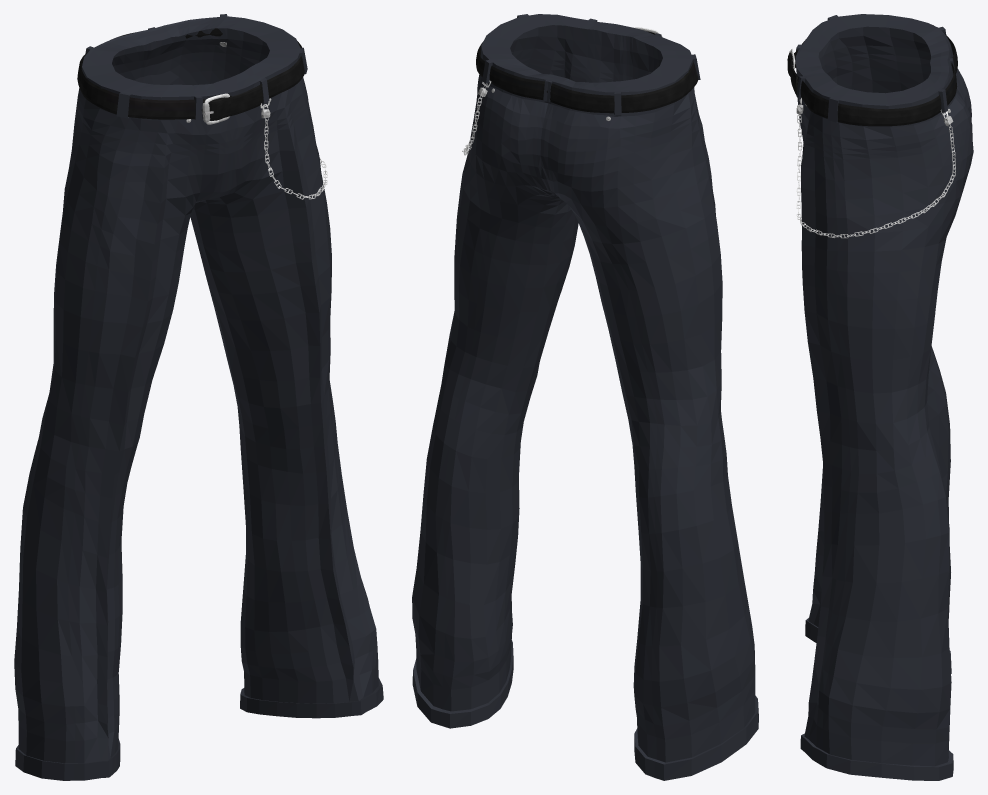
Rendered from mhw_elvs_male_trouser_with_chain.glb.
3 renders of one model, left to right at view 1: azimuth 30°, elevation 25°; view 2: azimuth 150°, elevation 25°; view 3: azimuth 270°, elevation 25°, orthographic. The views are drawn at different scales.
Parts seen in each view (by area): view 1: mhw_elvs_male_trouser_with_chain; view 2: mhw_elvs_male_trouser_with_chain; view 3: mhw_elvs_male_trouser_with_chain.
Boxes of the visible parts, x1=… form: mhw_elvs_male_trouser_with_chain: x1=14, y1=14, x2=383, y2=780; mhw_elvs_male_trouser_with_chain: x1=412, y1=14, x2=758, y2=780; mhw_elvs_male_trouser_with_chain: x1=787, y1=14, x2=973, y2=780.
Size of the model in its own units: 0.5651 by 1.11 by 0.2813.
Materials: 1 (1 with a texture image).
